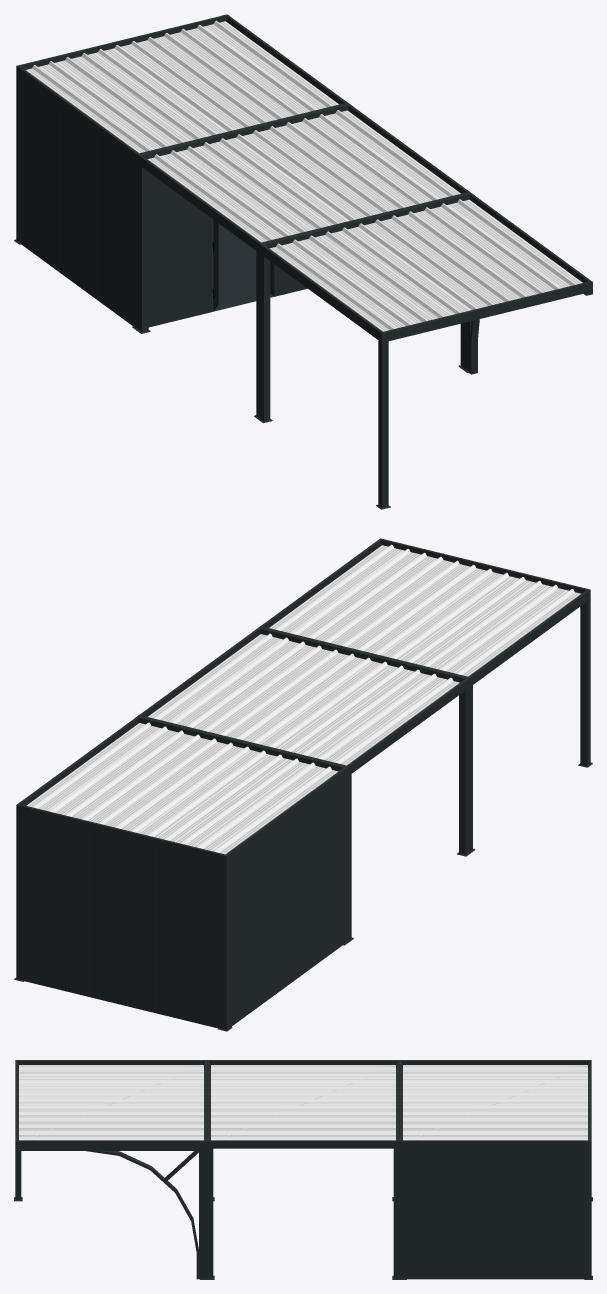
The model's file is 13446_3x3_entreedroite.fbx.
3 renders of one model, top to bottom at view 1: azimuth 30°, elevation 25°; view 2: azimuth 150°, elevation 25°; view 3: azimuth 270°, elevation 25°, orthographic. The views are drawn at different scales.
Visible parts, largest first — view 1: priximbattable_net_abris_de_voiture_13446_module_carport_ave, folha, porta; view 2: priximbattable_net_abris_de_voiture_13446_module_carport_ave; view 3: priximbattable_net_abris_de_voiture_13446_module_carport_ave.
Part boxes in pixels (box(x1,y1,x2,y2)): priximbattable_net_abris_de_voiture_13446_module_carport_ave: box(14, 14, 592, 509); folha: box(212, 219, 274, 311); porta: box(208, 216, 278, 312); priximbattable_net_abris_de_voiture_13446_module_carport_ave: box(14, 538, 592, 1031); priximbattable_net_abris_de_voiture_13446_module_carport_ave: box(14, 1060, 592, 1279).
Size of the model in its own units: 324 by 254 by 964.
Materials: 1 (1 with a texture image).
